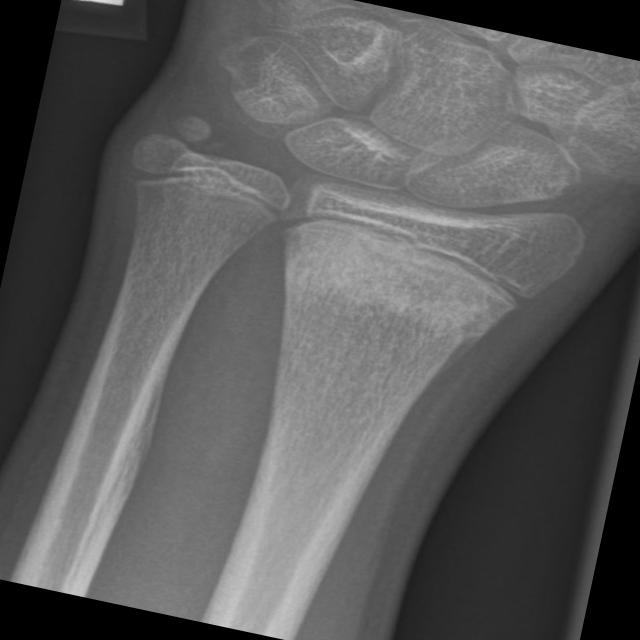fracture: (253, 178, 560, 336), (114, 135, 313, 237)
